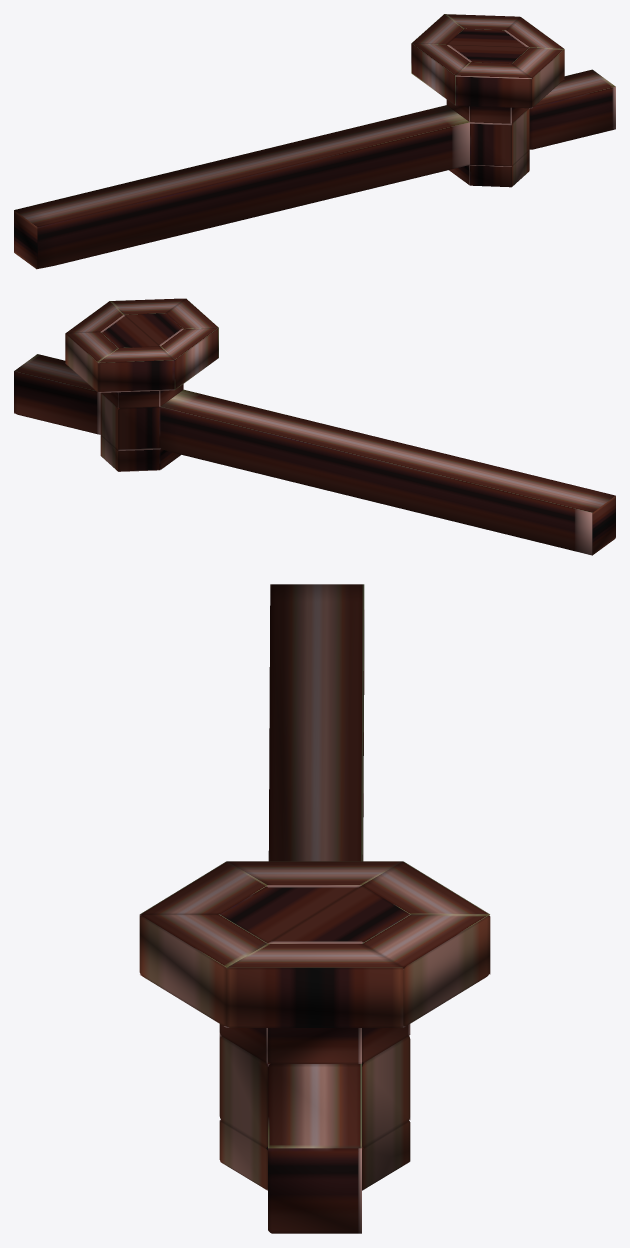
3 renders of one model, top to bottom at view 1: azimuth 30°, elevation 25°; view 2: azimuth 150°, elevation 25°; view 3: azimuth 270°, elevation 25°, orthographic. The views are drawn at different scales.
Visible parts, largest first — view 1: T1L2M003_5; view 2: T1L2M003_5; view 3: T1L2M003_5.
Boxes of the visible parts, bbox=[...] form: T1L2M003_5: bbox=[14, 14, 615, 269]; T1L2M003_5: bbox=[14, 298, 615, 555]; T1L2M003_5: bbox=[139, 584, 490, 1233].
Bounding box in the file's own units: 0.5684 × 0.1162 × 0.1494.
